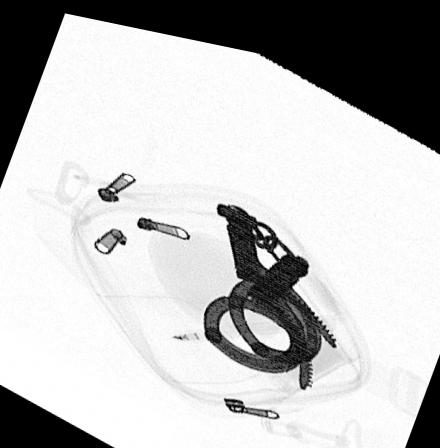HandCuffs: (198, 193, 341, 380)
